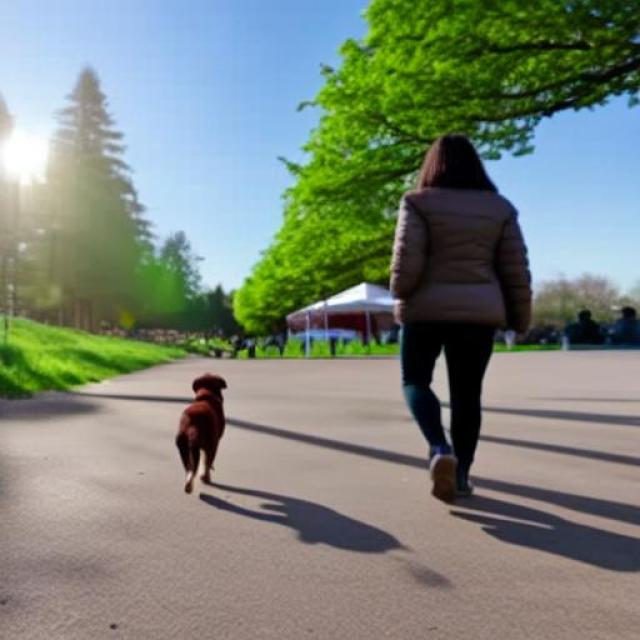Unleashed_Dog: (174, 324, 496, 499)
